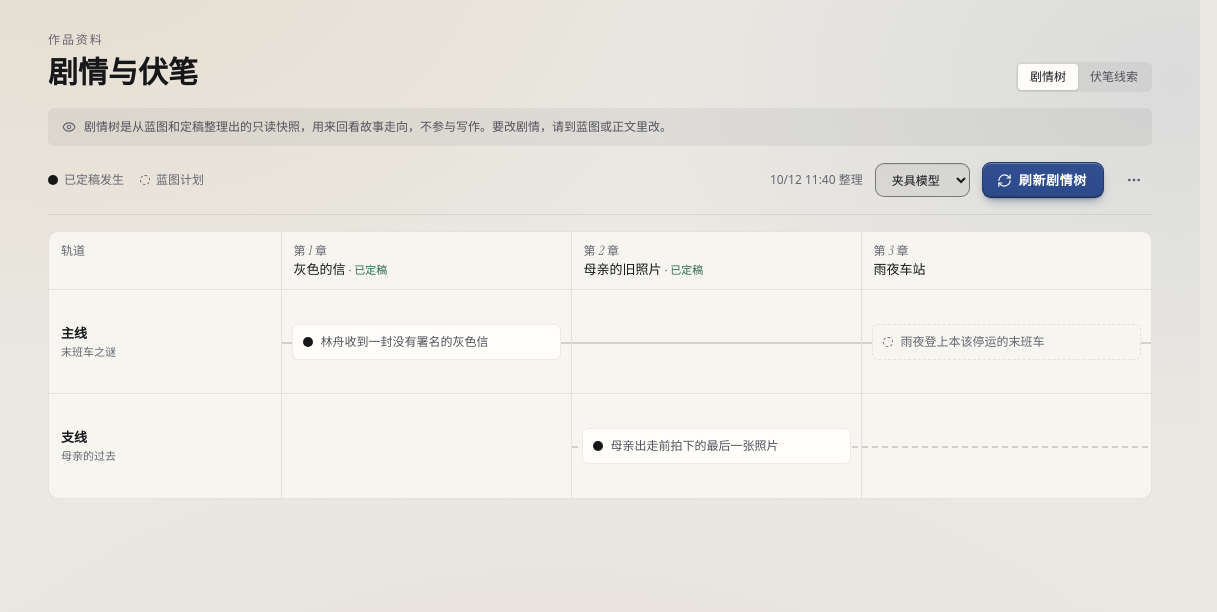
Test: 剧情与伏笔 › 剧情树分主线与支线两轨，写明它是只读快照、不参与写作
The width and height of the screenshot is (1217, 612).
Expected: the table named "剧情树" is shown, [49,232,1151,498]
Click the button "母亲出走前拍下的最后一张照片" at (716, 446), box [582,428,850,464]
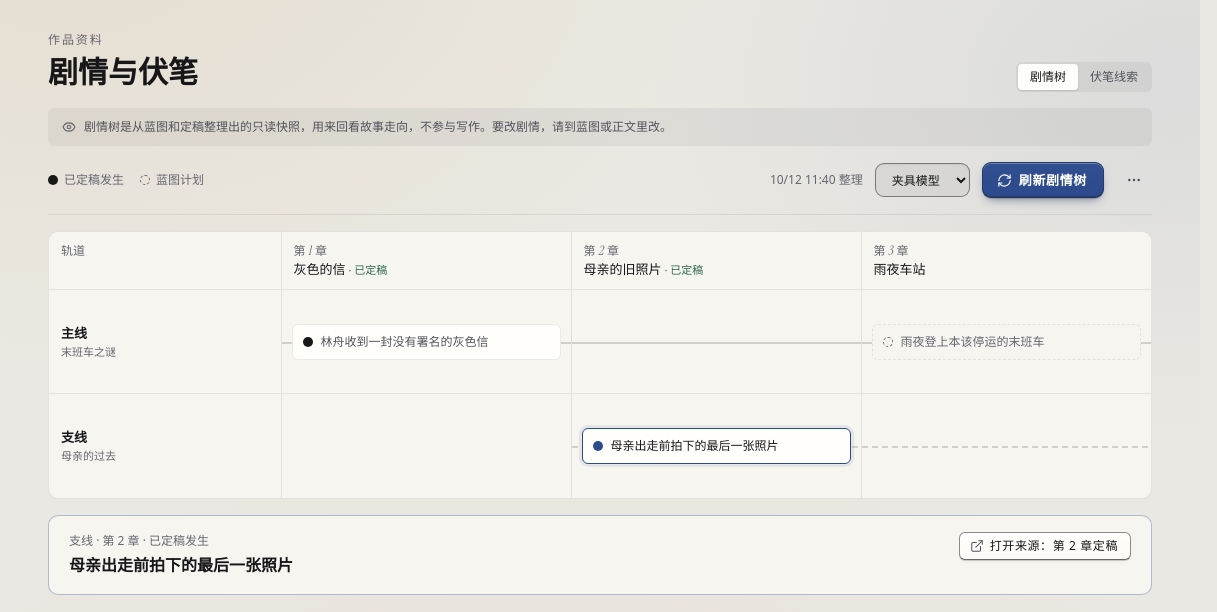
Expected: the element named "事件详情" shows "支线 · 第 2 章 · 已定稿发生", [48,515,1152,595]
Expected: the button "打开来源：第 2 章定稿" is shown, [959,532,1131,560]
